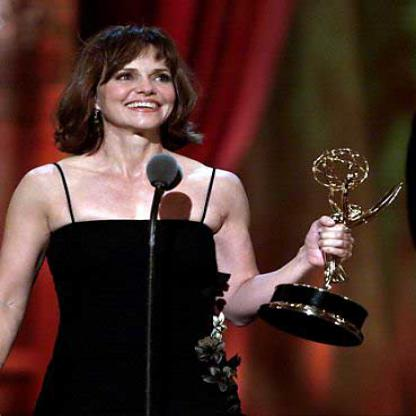face: (92, 30, 183, 132)
